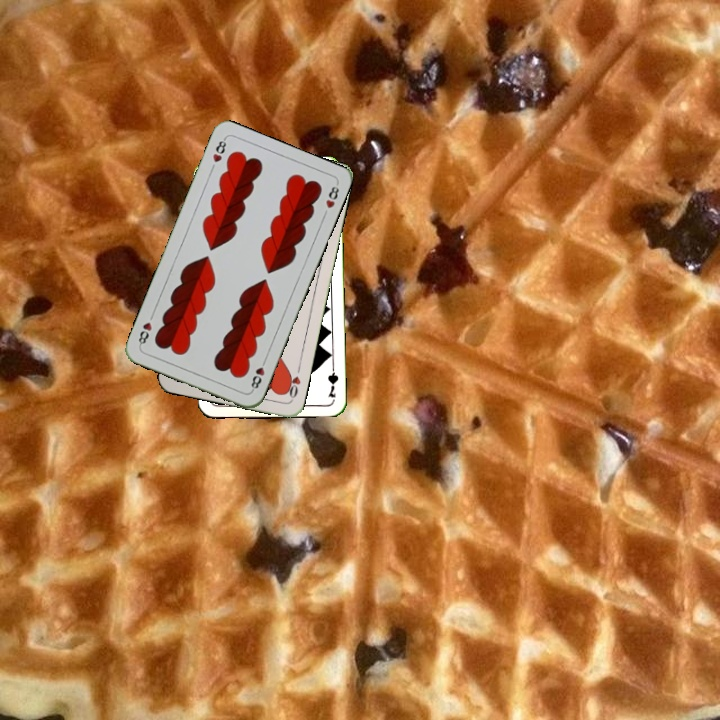G7: (324, 360, 341, 400)
H8: (247, 355, 269, 394), (208, 135, 229, 165)
HO: (281, 362, 303, 402)
